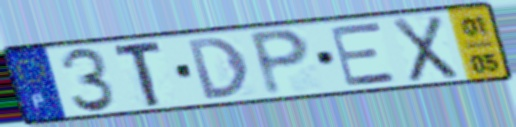3: (58, 45, 118, 114)
D: (183, 34, 252, 102)
E: (326, 20, 401, 89)
P: (246, 27, 314, 98)
T: (112, 38, 166, 110)
X: (388, 13, 461, 85)
